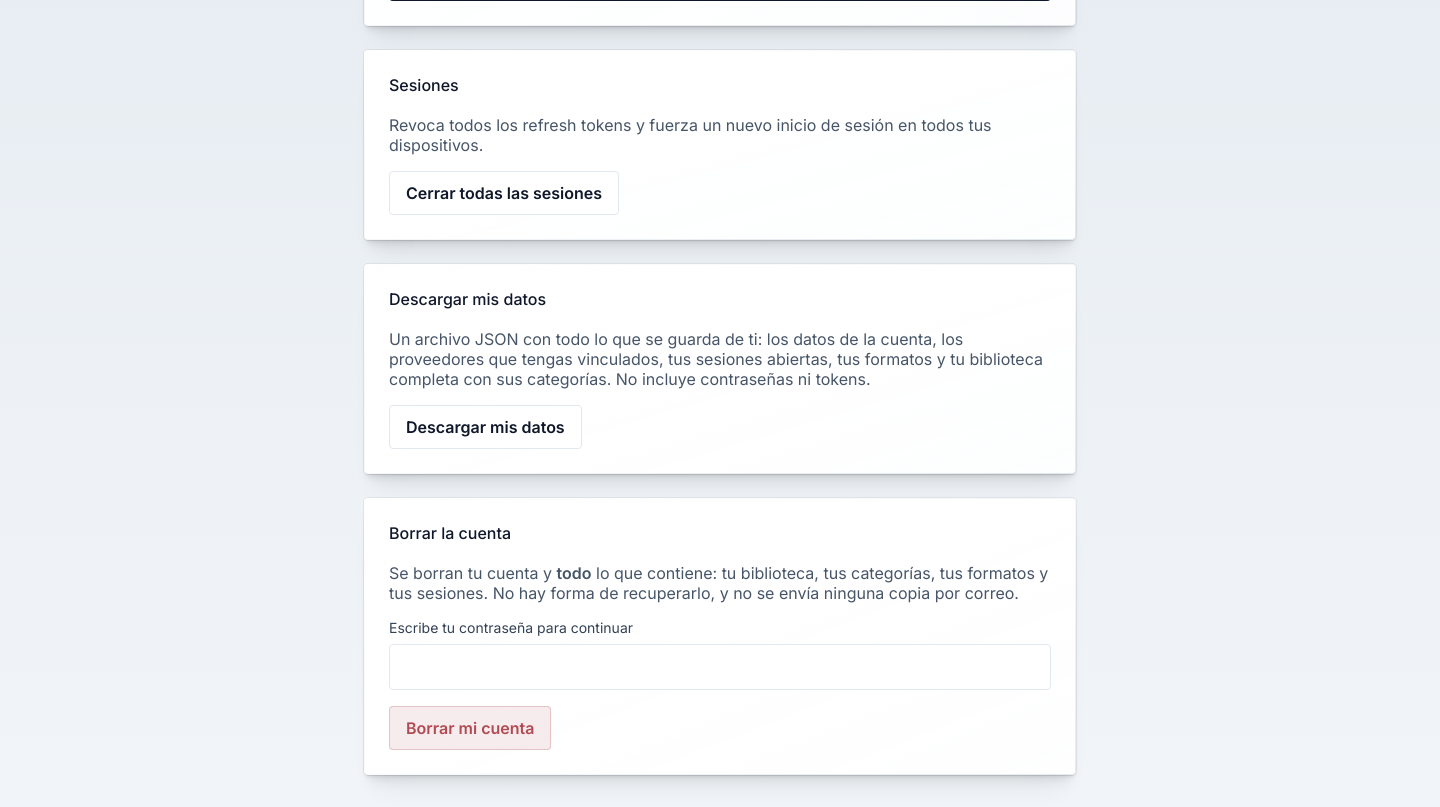
ProfileView › reports the error and re-enables the button when the download fails
(page scrolled)
What coordinates should you click on to do the following:
click the button "Descargar mis datos"
I would click on:
 (485, 427)
Its box is [389,405,582,449].
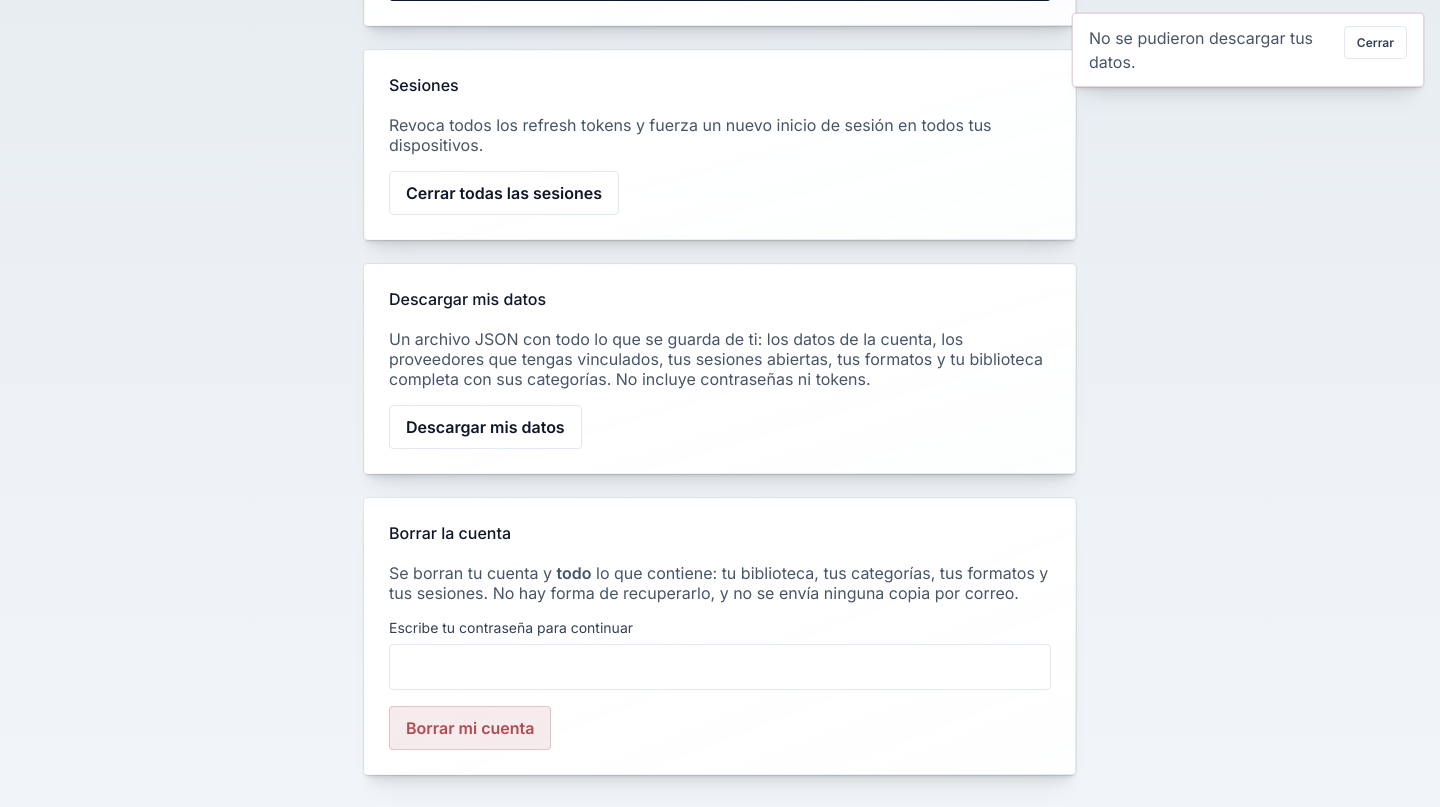
Now the text "No se pudieron descargar tus datos." is shown, box [1089,26,1332,74]
